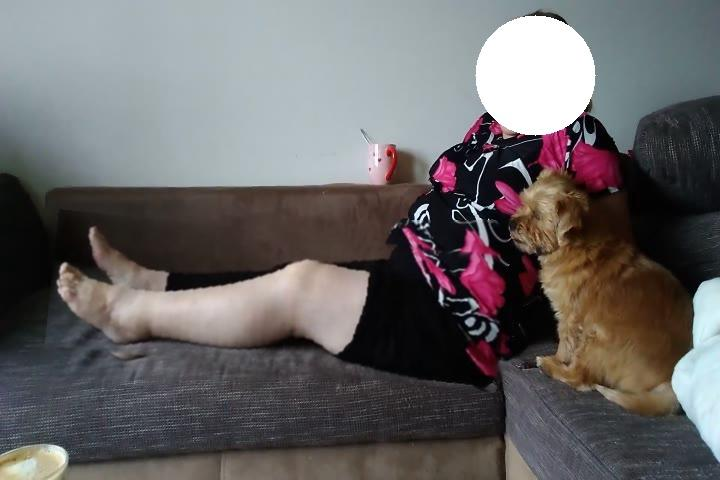lowerbody: (49, 222, 509, 382)
